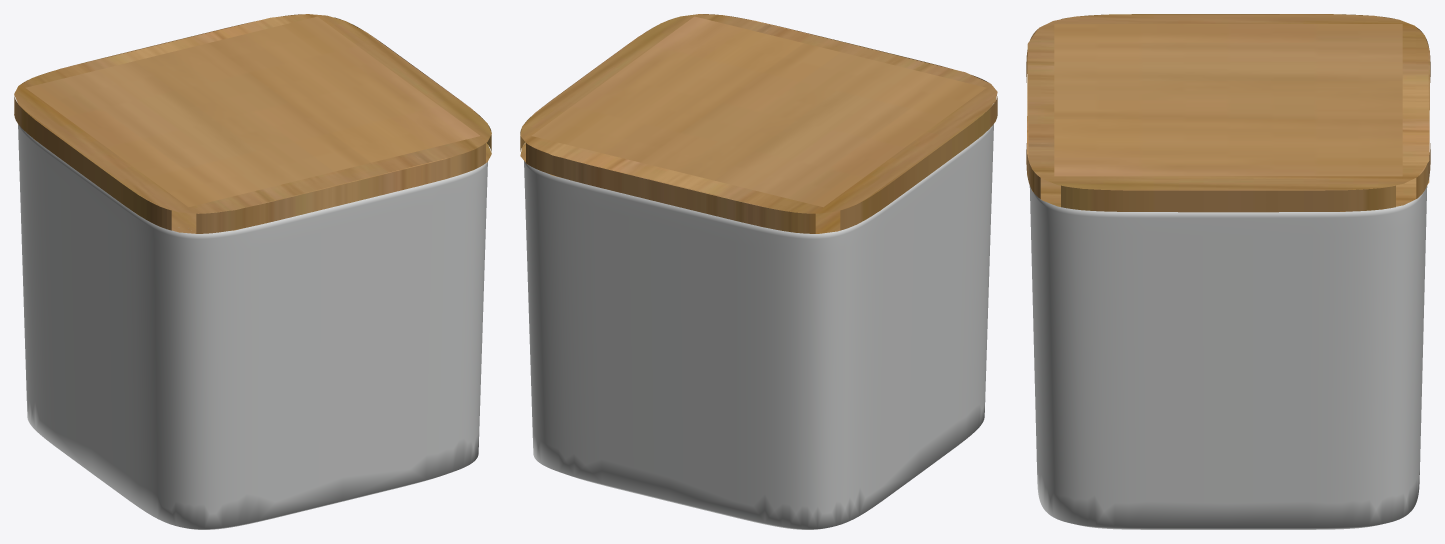
3 renders of one model, left to right at view 1: azimuth 30°, elevation 25°; view 2: azimuth 150°, elevation 25°; view 3: azimuth 270°, elevation 25°, orthographic. The views are drawn at different scales.
Parts seen in each view (by area): view 1: body, lid; view 2: body, lid; view 3: body, lid.
Boxes of the visible parts, x1,y1,x2,y2 form: body: [18, 124, 487, 529]; lid: [14, 14, 491, 233]; body: [524, 124, 993, 529]; lid: [520, 14, 997, 233]; body: [1029, 186, 1427, 529]; lid: [1026, 14, 1430, 212].
Size of the model in its own units: 0.1493 by 0.1385 by 0.1445.
Materials: 2 (1 with a texture image).
